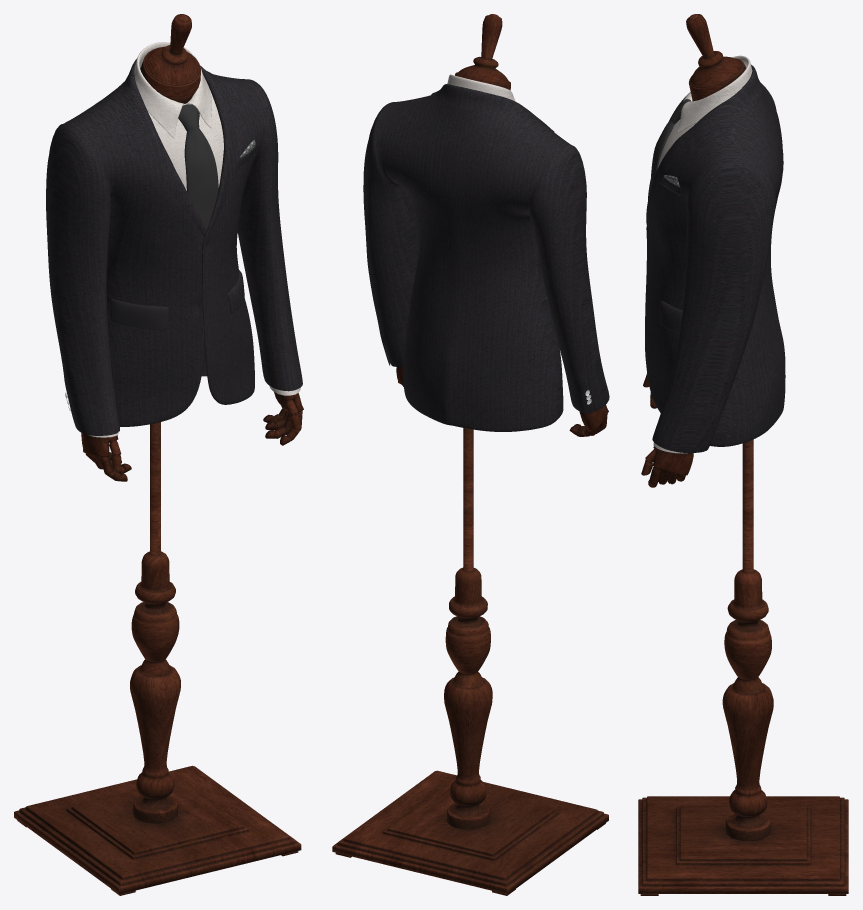
File: Coat-1.glb
The picture shows the model from 3 angles, left to right: view 1: azimuth 30°, elevation 25°; view 2: azimuth 150°, elevation 25°; view 3: azimuth 270°, elevation 25°; orthographic projection. The views are drawn at different scales.
Visible parts, largest first — view 1: _gltfNode_18.005, _gltfNode_0.005, _gltfNode_24.004, _gltfNode_36.004, _gltfNode_60.004, _gltfNode_21.004; view 2: _gltfNode_18.005, _gltfNode_0.005, _gltfNode_24.004, _gltfNode_60.004; view 3: _gltfNode_18.005, _gltfNode_0.005, _gltfNode_24.004, _gltfNode_60.004, _gltfNode_36.004, _gltfNode_21.004.
Boxes of the visible parts, box(x1,y1,x2,y2) form: _gltfNode_18.005: box(46, 74, 302, 435); _gltfNode_0.005: box(14, 14, 303, 895); _gltfNode_24.004: box(109, 59, 256, 330); _gltfNode_36.004: box(178, 104, 218, 237); _gltfNode_60.004: box(134, 42, 211, 137); _gltfNode_21.004: box(88, 90, 300, 437); _gltfNode_18.005: box(363, 94, 609, 431); _gltfNode_0.005: box(332, 14, 608, 895); _gltfNode_24.004: box(431, 84, 554, 316); _gltfNode_60.004: box(447, 74, 515, 101); _gltfNode_18.005: box(645, 82, 785, 452); _gltfNode_0.005: box(638, 14, 848, 895); _gltfNode_24.004: box(646, 64, 762, 333); _gltfNode_60.004: box(676, 55, 752, 134); _gltfNode_36.004: box(650, 99, 689, 188); _gltfNode_21.004: box(653, 119, 694, 453).
Size of the model in its own units: 0.2032 by 0.7347 by 0.1673.
Materials: 8 (6 with a texture image).
